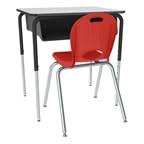desk: (15, 5, 125, 120)
